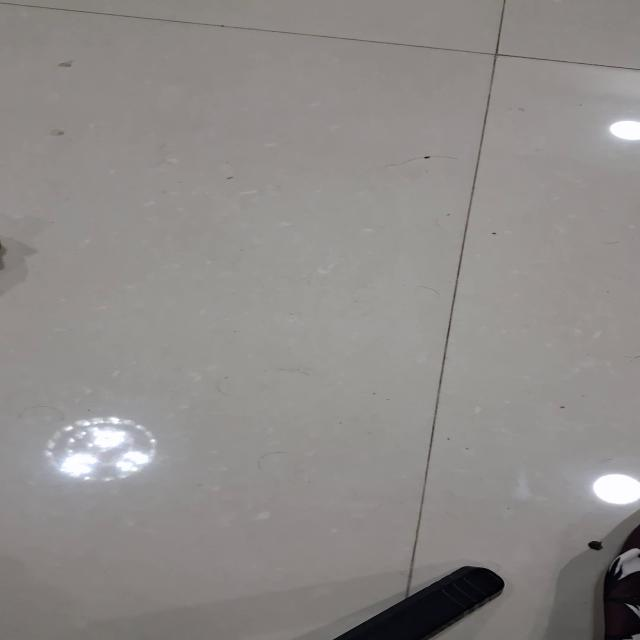paper: (2, 0, 638, 639)
